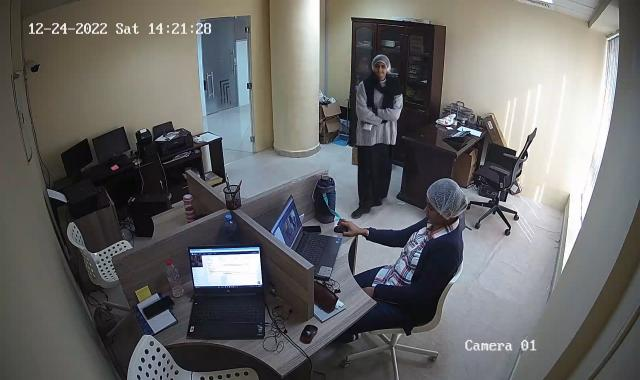hairnet: (424, 180, 470, 226), (370, 53, 390, 80)
